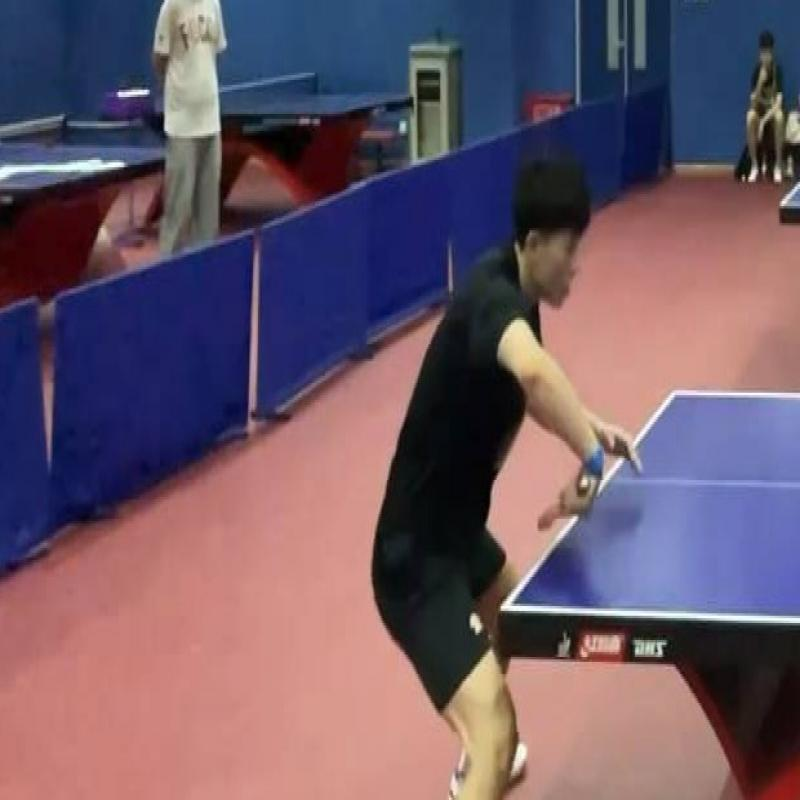bats: (524, 466, 591, 550)
